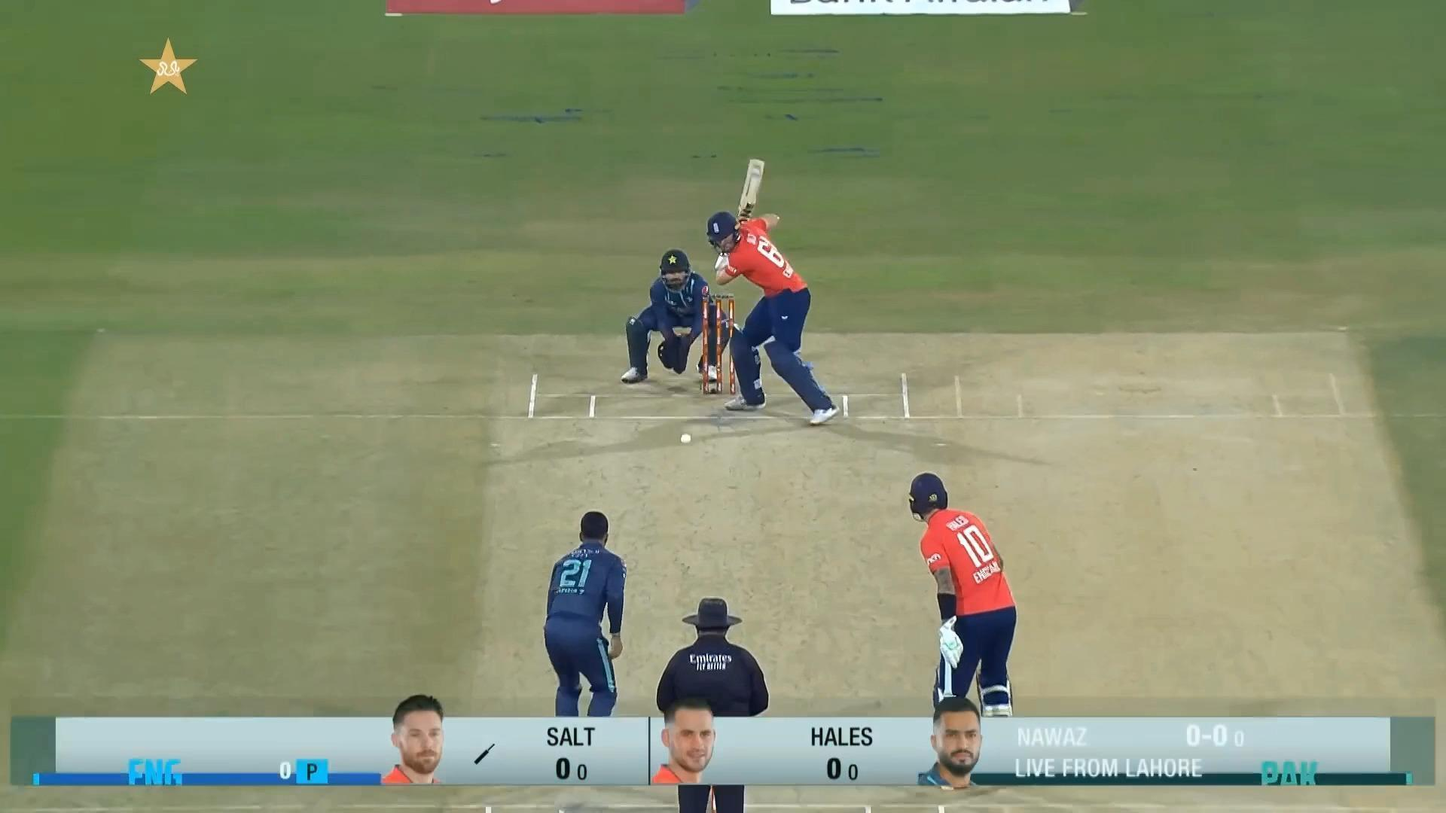BM 1: (706, 156, 840, 428)
BO: (545, 509, 628, 716)
